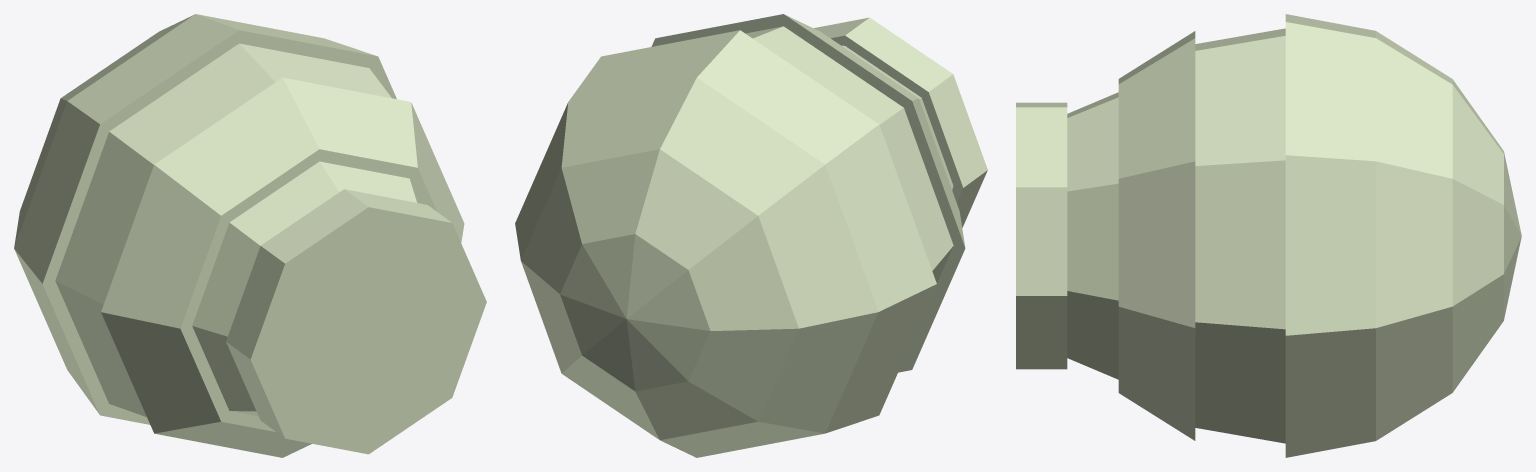
File: Turret.fbx
The picture shows the model from 3 angles, left to right: view 1: azimuth 30°, elevation 25°; view 2: azimuth 150°, elevation 25°; view 3: azimuth 270°, elevation 25°; orthographic projection. The views are drawn at different scales.
Visible parts, largest first — view 1: Turret; view 2: Turret; view 3: Turret.
Boxes of the visible parts, box(x1,y1,x2,y2) form: Turret: box(14, 14, 486, 457); Turret: box(515, 14, 987, 457); Turret: box(1016, 14, 1521, 457).
Bounding box in the file's own units: 0.662 × 0.662 × 0.7085.
